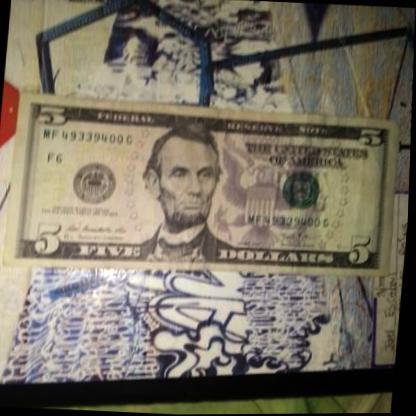five-front: (3, 90, 410, 286)
